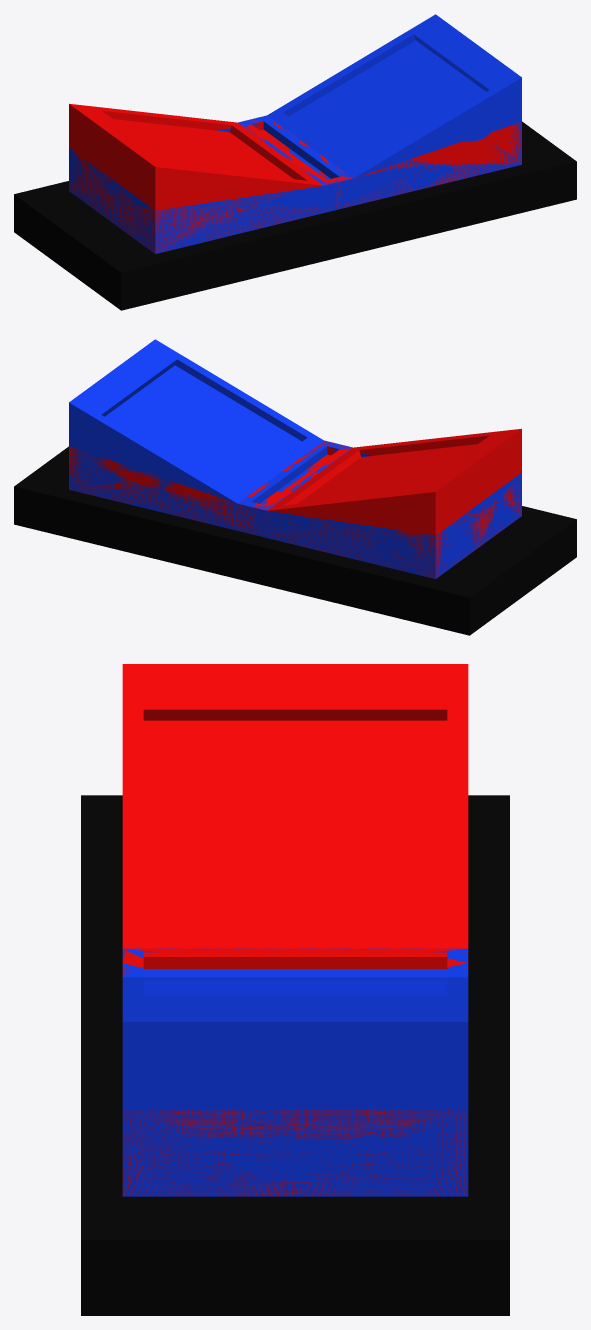
File: toggle.fbx
3 views of the same model, one above another, from view 1: azimuth 30°, elevation 25°; view 2: azimuth 150°, elevation 25°; view 3: azimuth 270°, elevation 25° (orthographic). The views are drawn at different scales.
Visible parts, largest first — view 1: Button_On, Base, Button_Off; view 2: Button_On, Base, Button_Off; view 3: Button_Off, Base, Button_On.
Boxes of the visible parts, x1,y1,x2,y2 form: Button_On: (69,14,521,253); Base: (14,121,576,310); Button_Off: (69,103,521,253); Button_On: (69,339,521,578); Base: (14,446,576,635); Button_Off: (69,428,521,578); Button_Off: (122,664,468,1196); Base: (81,795,509,1315); Button_On: (122,948,468,1196).
Size of the model in its own units: 12.56 by 5.12 by 3.3.
